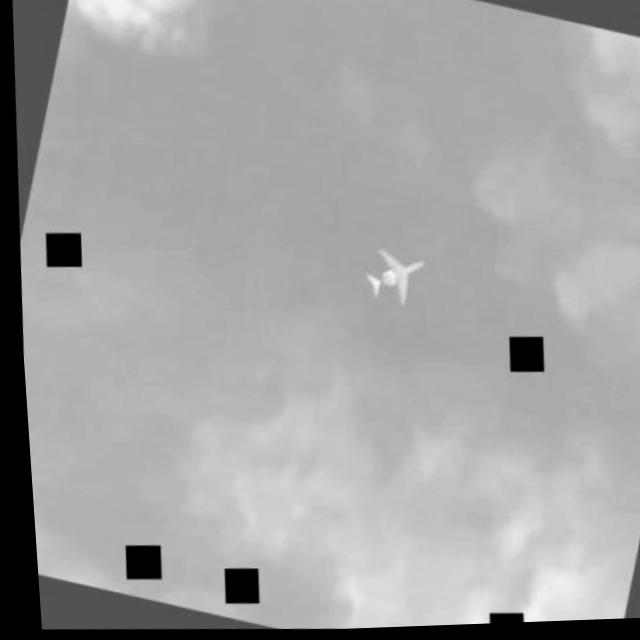aeroplane: (351, 248, 426, 308)
